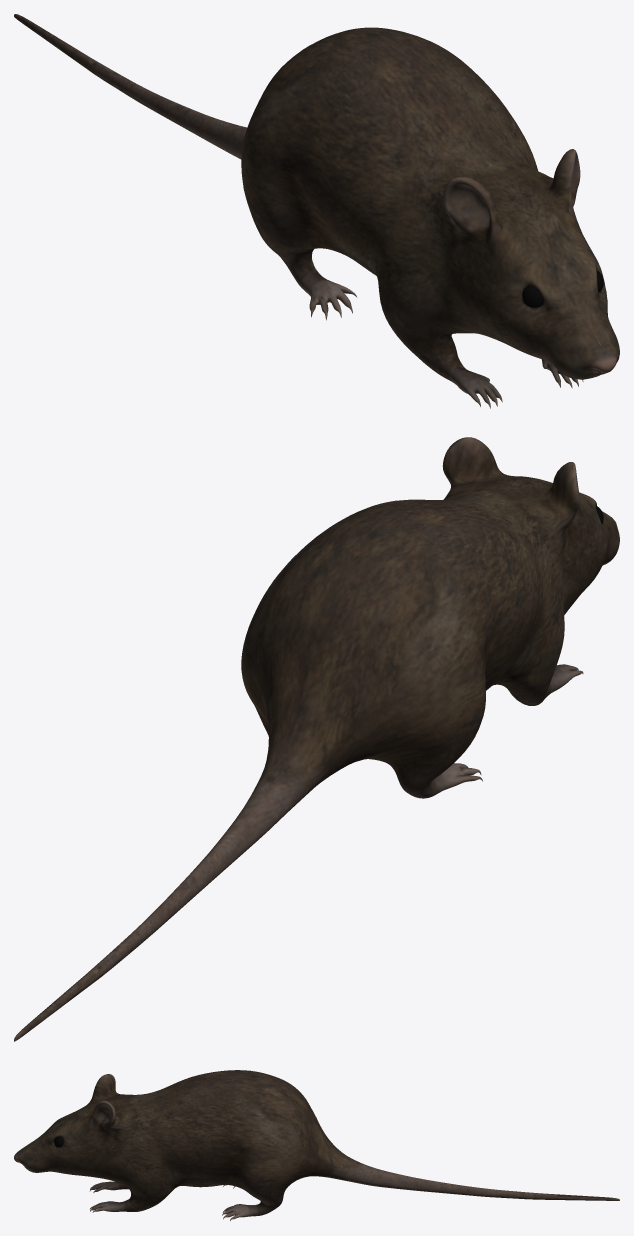
Rendered from Rat_astral3d.optimize.glb.
3 views of the same model, one above another, from view 1: azimuth 30°, elevation 25°; view 2: azimuth 150°, elevation 25°; view 3: azimuth 270°, elevation 25° (orthographic). The views are drawn at different scales.
Visible parts, largest first — view 1: street_rat; view 2: street_rat; view 3: street_rat.
Boxes of the visible parts, <box> form: street_rat: <box>14,14,619,408</box>; street_rat: <box>14,437,619,1041</box>; street_rat: <box>14,1070,619,1220</box>.
Bounding box in the file's own units: 0.032 × 0.0339 × 0.1483.
1 material, 1 textured.
